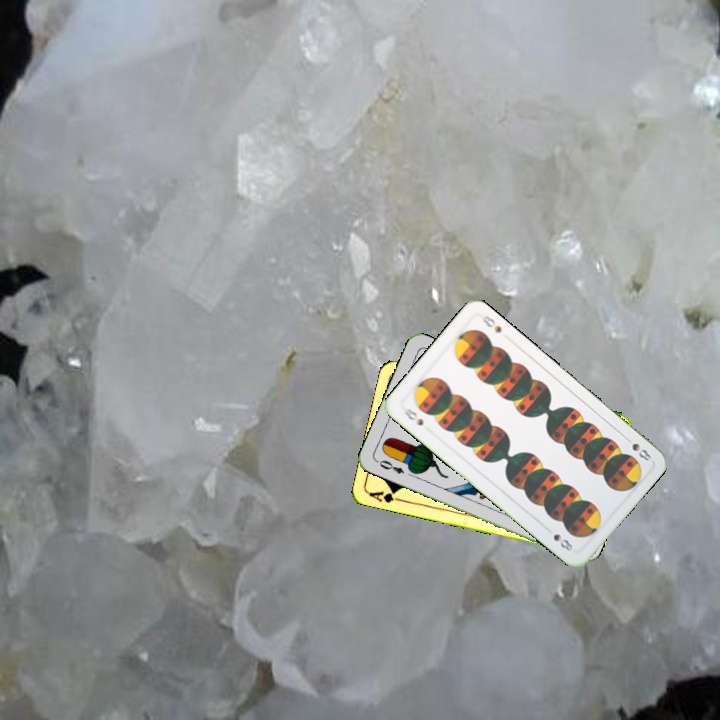EO: (372, 456, 407, 476)
GA: (366, 486, 406, 505)
S8: (628, 439, 654, 464), (400, 405, 426, 429)
